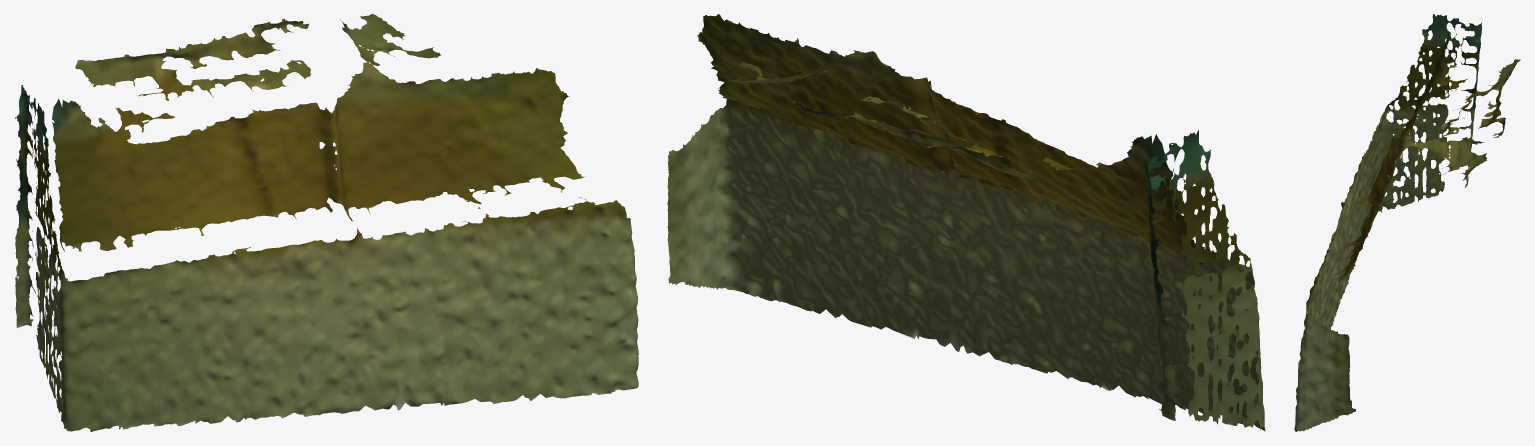
The model's file is color_model_f003_20260206_132730.obj.
The picture shows the model from 3 angles, left to right: view 1: azimuth 30°, elevation 25°; view 2: azimuth 150°, elevation 25°; view 3: azimuth 270°, elevation 25°; orthographic projection. The views are drawn at different scales.
Size of the model in its own units: 1.78 by 1.05 by 0.8967.
